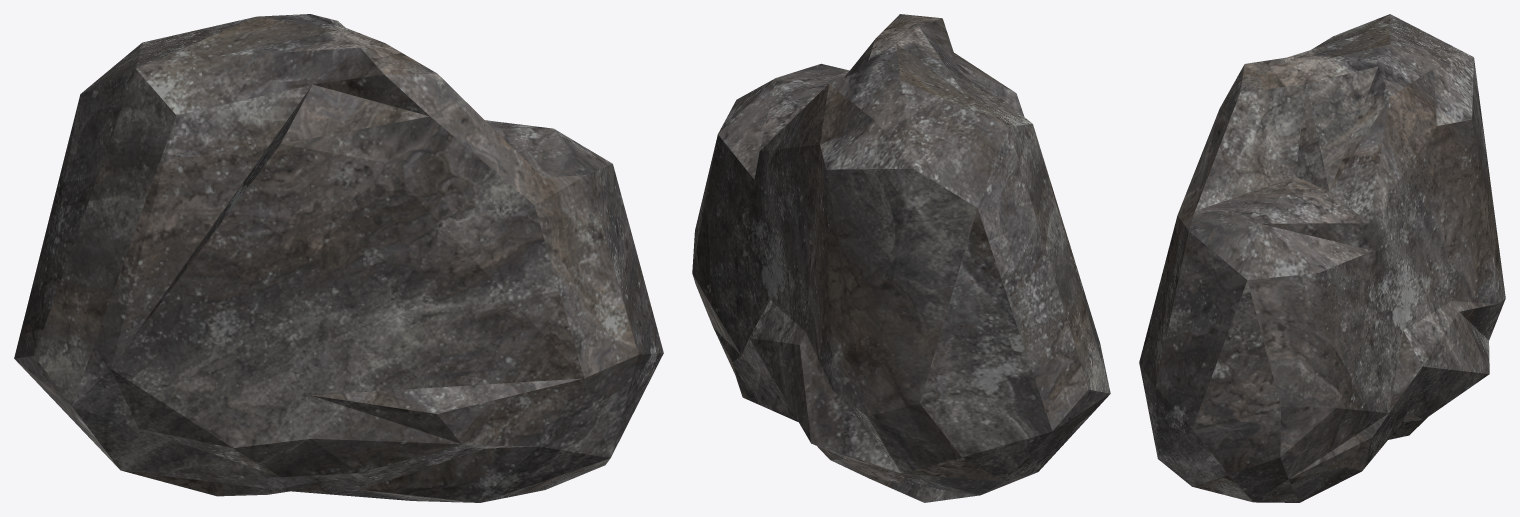
Rendered from LampLight_AltRock_6.FBX.
3 views of the same model, side by side, from view 1: azimuth 30°, elevation 25°; view 2: azimuth 150°, elevation 25°; view 3: azimuth 270°, elevation 25° (orthographic). The views are drawn at different scales.
Visible parts, largest first — view 1: Bg_Rock_12; view 2: Bg_Rock_12; view 3: Bg_Rock_12.
Part boxes in pixels (bbox=[...]): Bg_Rock_12: bbox=[14, 14, 663, 502]; Bg_Rock_12: bbox=[692, 14, 1110, 502]; Bg_Rock_12: bbox=[1139, 14, 1505, 502].
Bounding box in the file's own units: 167 × 143 × 123.
